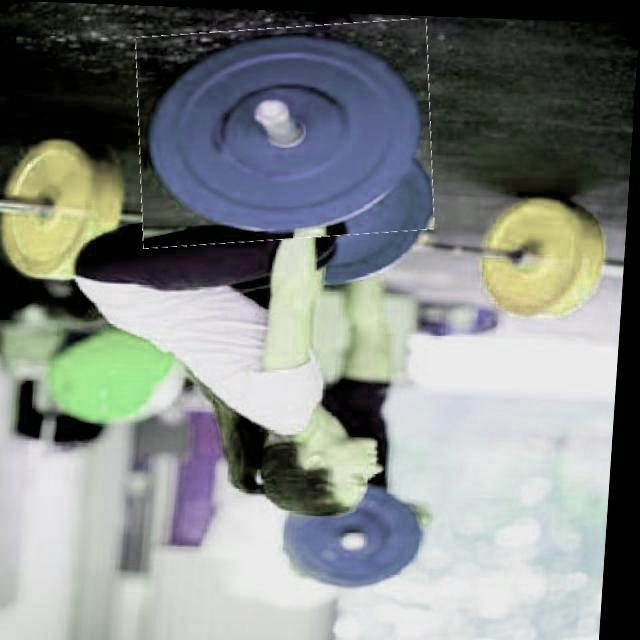barbell: (131, 15, 442, 248)
